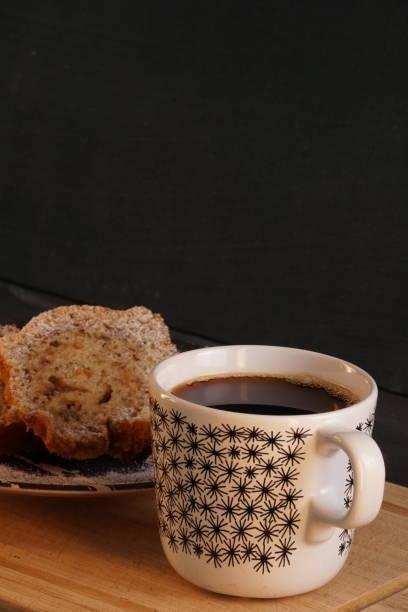cup-handle: (147, 342, 387, 601)
